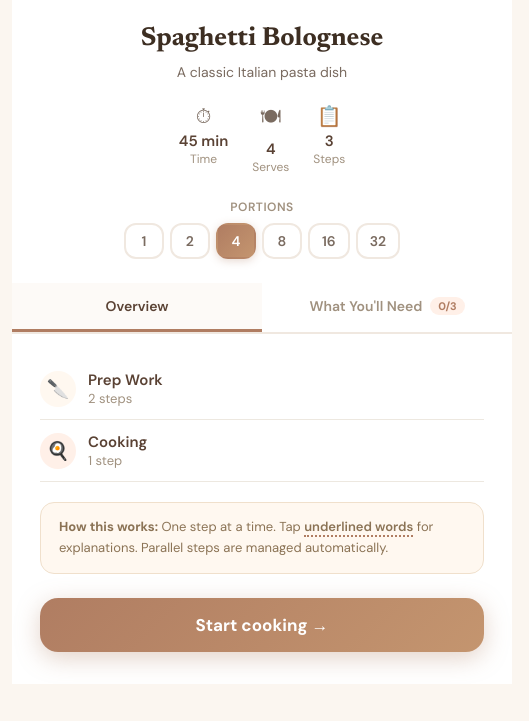
Scenario: RecipeIntro › switches to checklist tab when clicked
Click the button "What You'll Need 0/3" at [387, 308], box top-left (262, 283), bottom-right (512, 332)
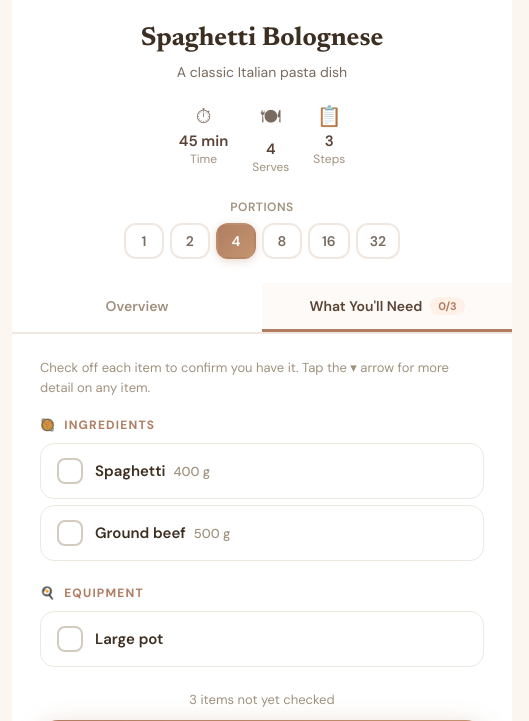
Now the text "Check off each item" is shown, box top-left (40, 359), bottom-right (449, 396)
Now the text "Spaghetti" is shown, box top-left (95, 461), bottom-right (165, 481)
